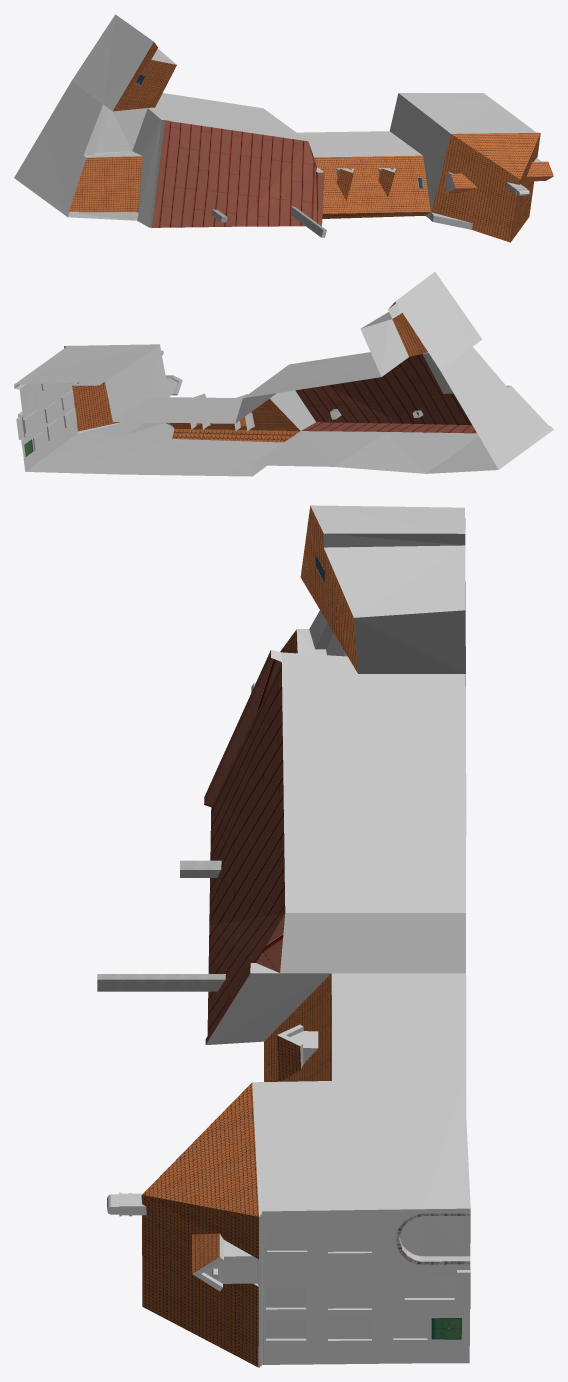
File: Vene_27.obj
The picture shows the model from 3 angles, top to bottom: view 1: azimuth 30°, elevation 25°; view 2: azimuth 150°, elevation 25°; view 3: azimuth 270°, elevation 25°; orthographic projection. The views are drawn at different scales.
Visible parts, largest first — view 1: Vene_27; view 2: Vene_27; view 3: Vene_27.
Boxes of the visible parts, left/top/right/bottom form: Vene_27: left=14, top=14, right=553, bottom=242; Vene_27: left=14, top=272, right=553, bottom=476; Vene_27: left=97, top=505, right=470, bottom=1367.
Bounding box in the file's own units: 57.59 × 29.45 × 19.61.
